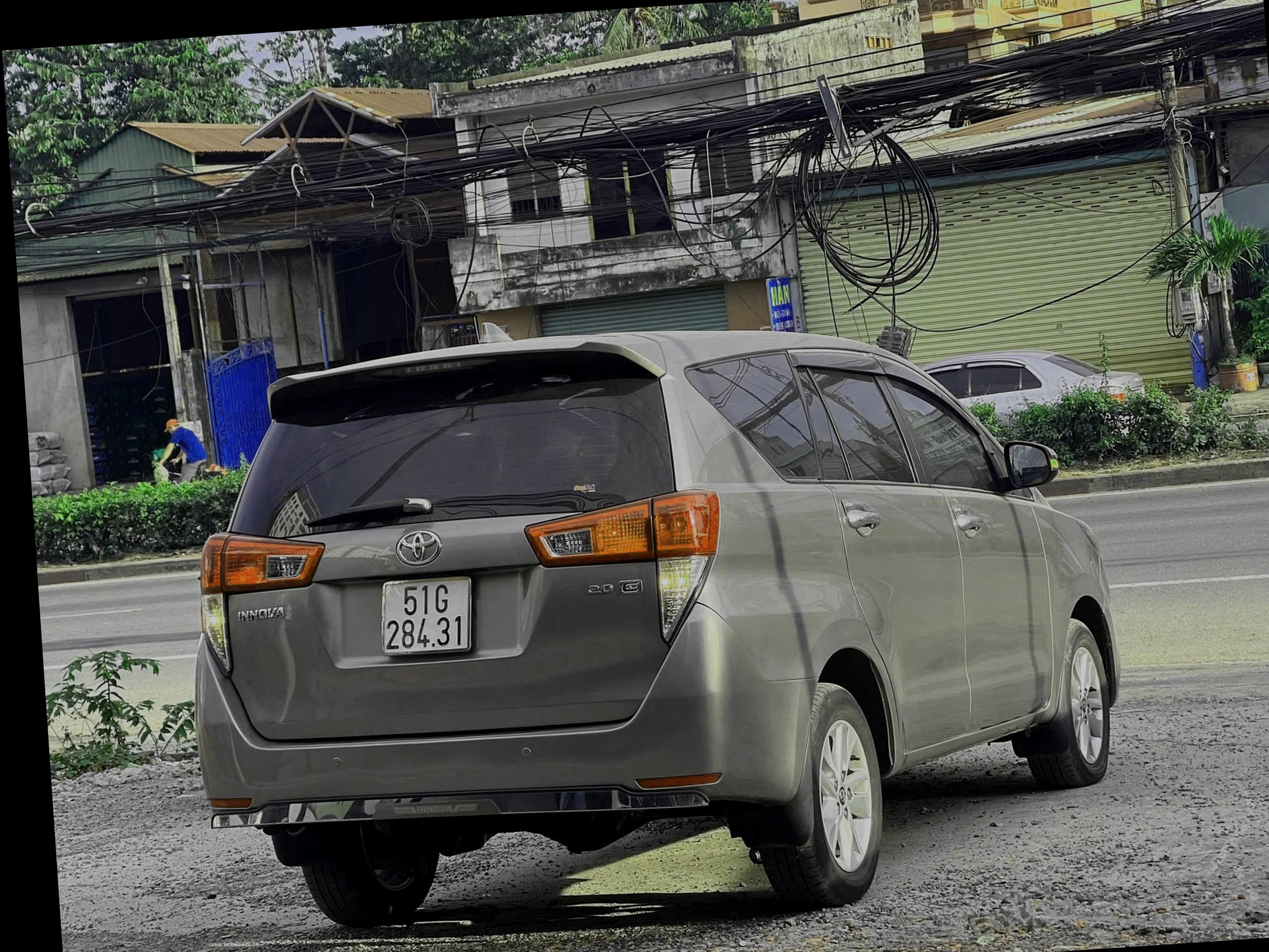Bien-so: (373, 569, 487, 661)
